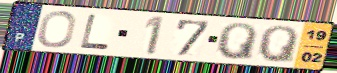1: (143, 14, 165, 57)
7: (173, 18, 213, 57)
L: (78, 13, 111, 52)
O: (36, 9, 79, 49)
Q: (255, 24, 300, 65), (214, 22, 259, 62)
